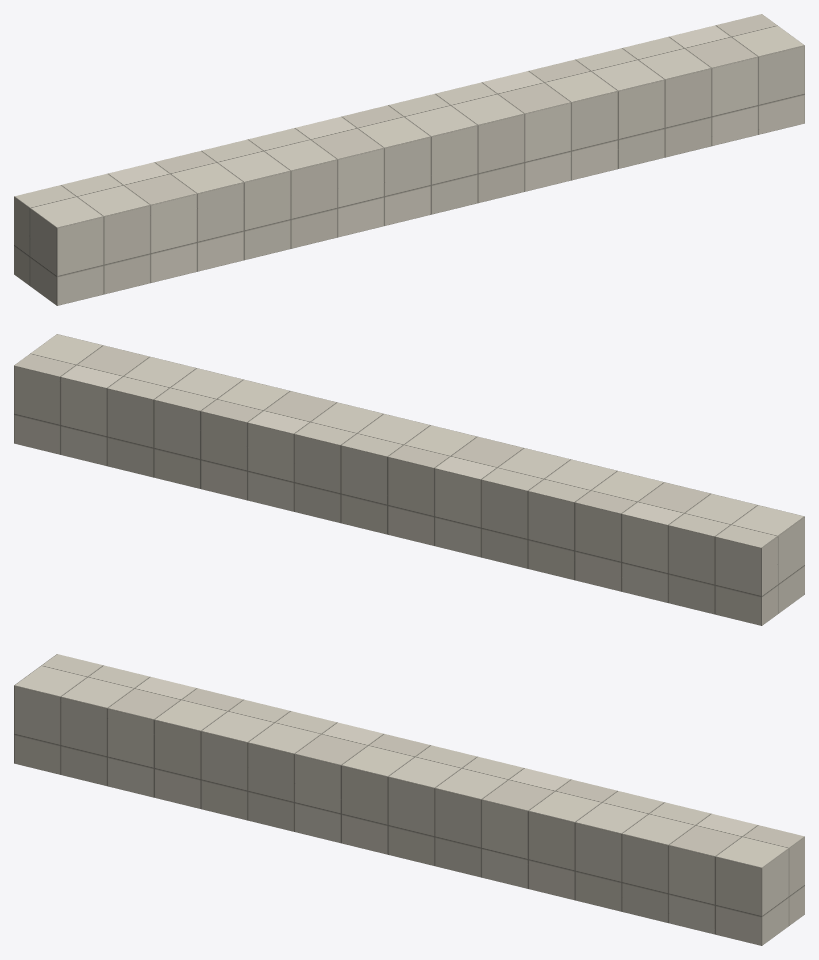
The model's file is MOD_47_Ceiling_Beam.glb.
3 renders of one model, top to bottom at view 1: azimuth 30°, elevation 25°; view 2: azimuth 150°, elevation 25°; view 3: azimuth 330°, elevation 25°, orthographic.
Visible parts, largest first — view 1: MOD_47_Ceiling_Beam_Export; view 2: MOD_47_Ceiling_Beam_Export; view 3: MOD_47_Ceiling_Beam_Export.
Part boxes in pixels (bbox=[...]): MOD_47_Ceiling_Beam_Export: bbox=[14, 14, 804, 305]; MOD_47_Ceiling_Beam_Export: bbox=[14, 334, 804, 625]; MOD_47_Ceiling_Beam_Export: bbox=[14, 654, 804, 945].
Bounding box in the file's own units: 4 × 0.4 × 0.4.
Materials: 1 (1 with a texture image).
